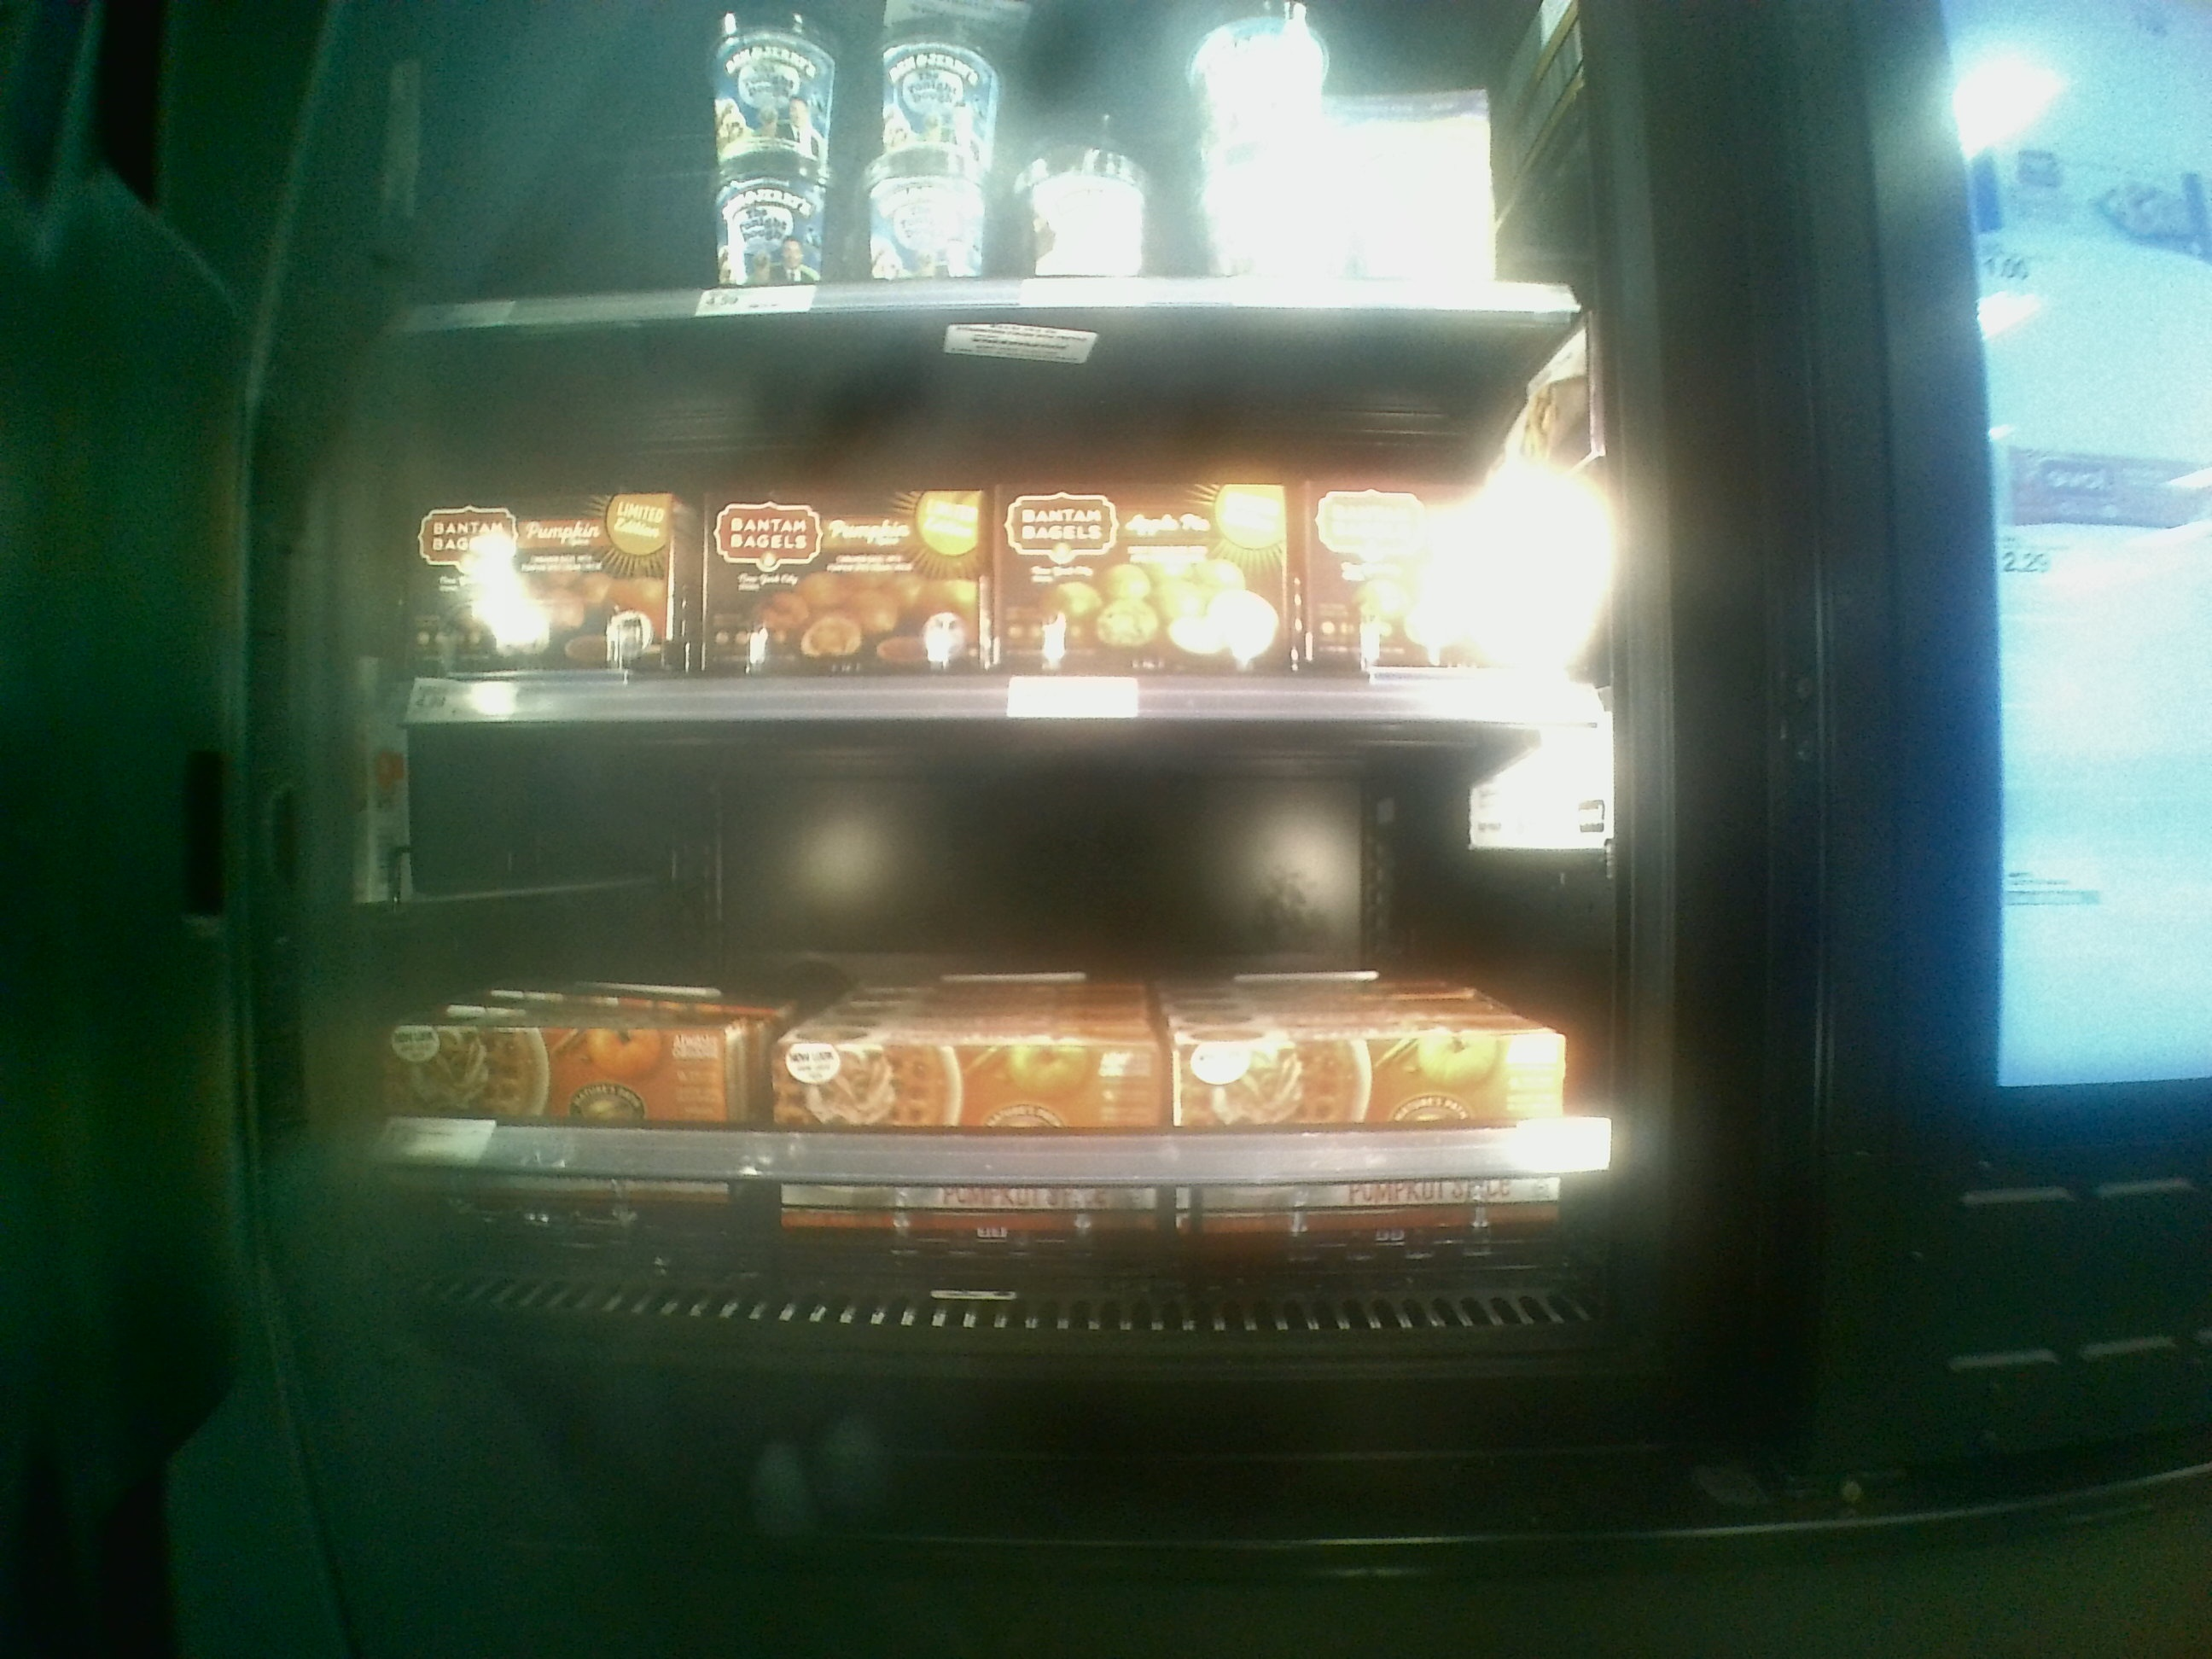shelf: (355, 721, 1651, 1366), (374, 310, 1613, 727)
